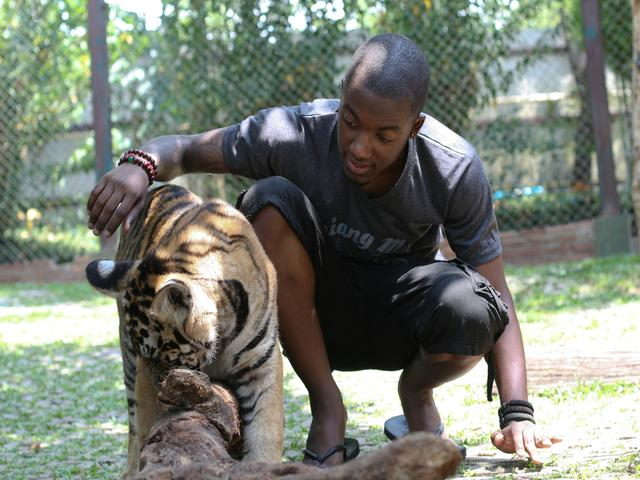tiger: (60, 159, 301, 451)
